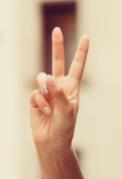front: (26, 23, 92, 155)
